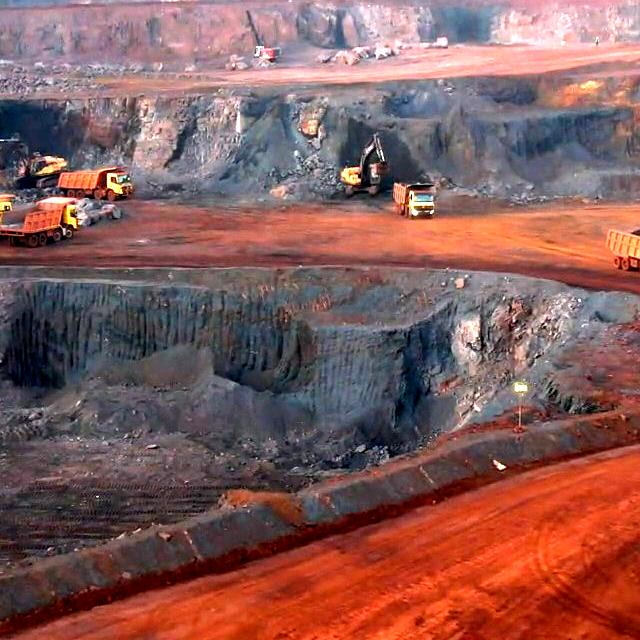Blast rig: (253, 46, 282, 65)
Dumper truck: (8, 203, 77, 242), (397, 184, 439, 216), (624, 232, 640, 273)
Excavator: (341, 164, 381, 199), (16, 160, 57, 191)
